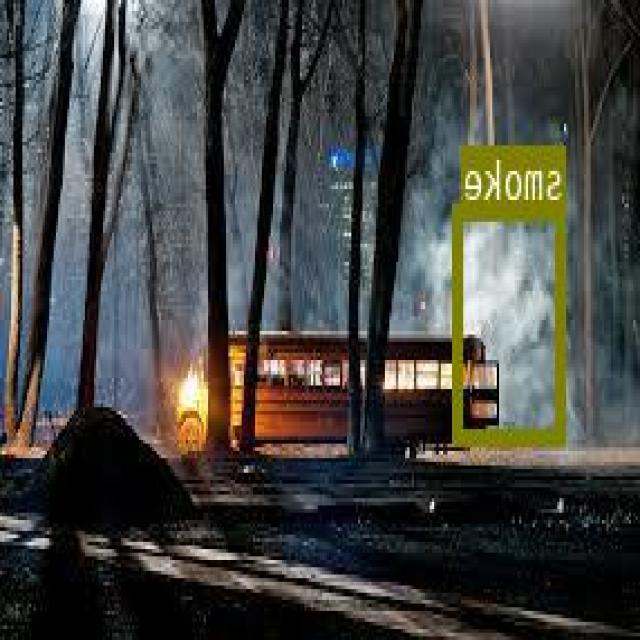smoke: (456, 202, 567, 442)
